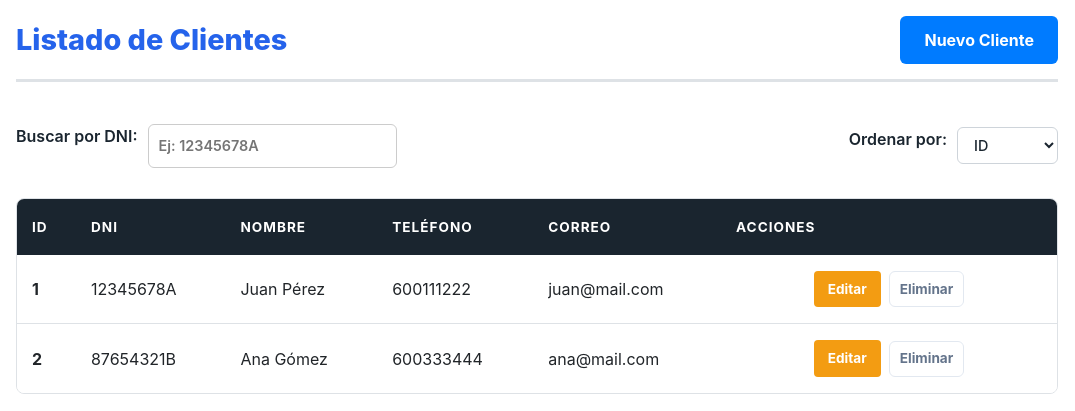
Test: Pruebas en el componente <Clients /> › Filtrar la lista de clientes cuando se escribe en el buscador de DNI
Check: the text "Juan Pérez" is shown, box [225, 255, 377, 324]
Type "87654321B" into the search field with placeholder "Ej: 12345678A" at (272, 146), box [148, 124, 396, 168]
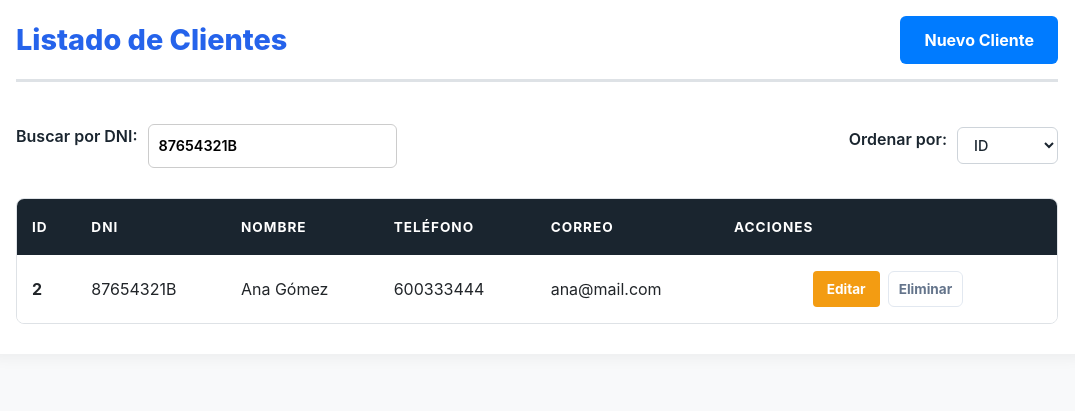
Check: the text "Ana Gómez" is shown, box [226, 255, 379, 323]
Check: the text "Juan Pérez" is gone
